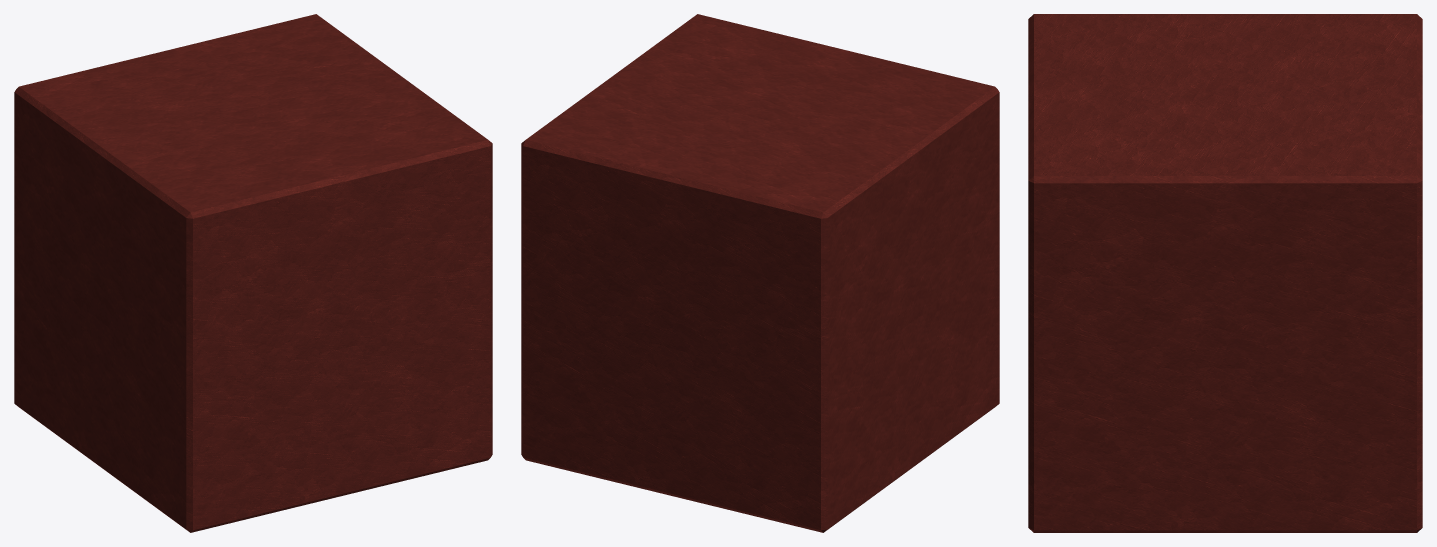
The model's file is train_red_frame.gltf.
The picture shows the model from 3 angles, left to right: view 1: azimuth 30°, elevation 25°; view 2: azimuth 150°, elevation 25°; view 3: azimuth 270°, elevation 25°; orthographic projection. The views are drawn at different scales.
Bounding box in the file's own units: 1 × 1 × 1.
2 materials, 2 textured.
